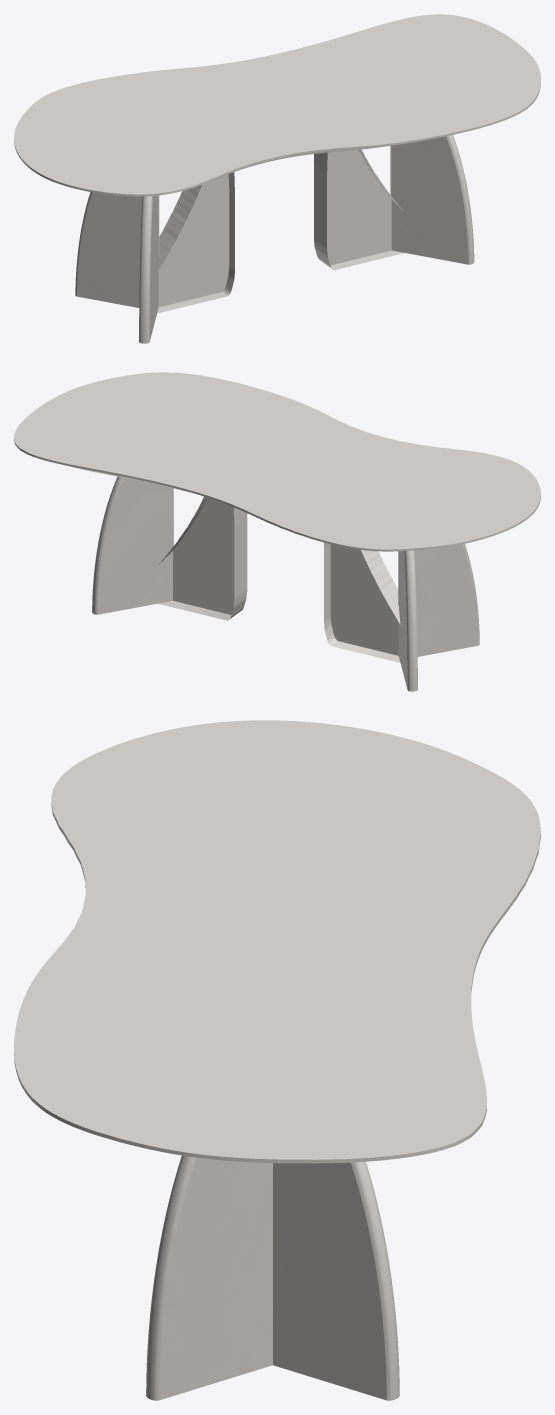
The model's file is pearlwhite_wave_facet_plane.glb.
The picture shows the model from 3 angles, top to bottom: view 1: azimuth 30°, elevation 25°; view 2: azimuth 150°, elevation 25°; view 3: azimuth 270°, elevation 25°; orthographic projection. The views are drawn at different scales.
Visible parts, largest first — view 1: facet_wave, plane_singleright2, plane_single1, plane_single2, plane_singleleft1, plane_singleright1; view 2: facet_wave, plane_singleleft2, plane_single2, plane_single1, plane_singleright1, plane_singleleft1; view 3: facet_wave, plane_singleright2, plane_singleleft2.
Boxes of the visible parts, x1=… form: facet_wave: x1=14, y1=14, x2=540, y2=196; plane_singleright2: x1=390, y1=135, x2=474, y2=264; plane_single1: x1=157, y1=172, x2=234, y2=313; plane_single2: x1=314, y1=149, x2=404, y2=270; plane_singleleft1: x1=75, y1=192, x2=159, y2=307; plane_singleright1: x1=139, y1=195, x2=158, y2=343; facet_wave: x1=14, y1=372, x2=540, y2=551; plane_singleleft2: x1=92, y1=476, x2=173, y2=614; plane_single2: x1=158, y1=496, x2=247, y2=620; plane_single1: x1=324, y1=542, x2=400, y2=662; plane_singleright1: x1=398, y1=543, x2=479, y2=656; plane_singleleft1: x1=398, y1=550, x2=417, y2=691; facet_wave: x1=14, y1=720, x2=540, y2=1163; plane_singleright2: x1=146, y1=1155, x2=272, y2=1400; plane_singleleft2: x1=273, y1=1161, x2=399, y2=1400.
Size of the model in its own units: 7.5 by 2.49 by 3.8.
1 material, 1 textured.
